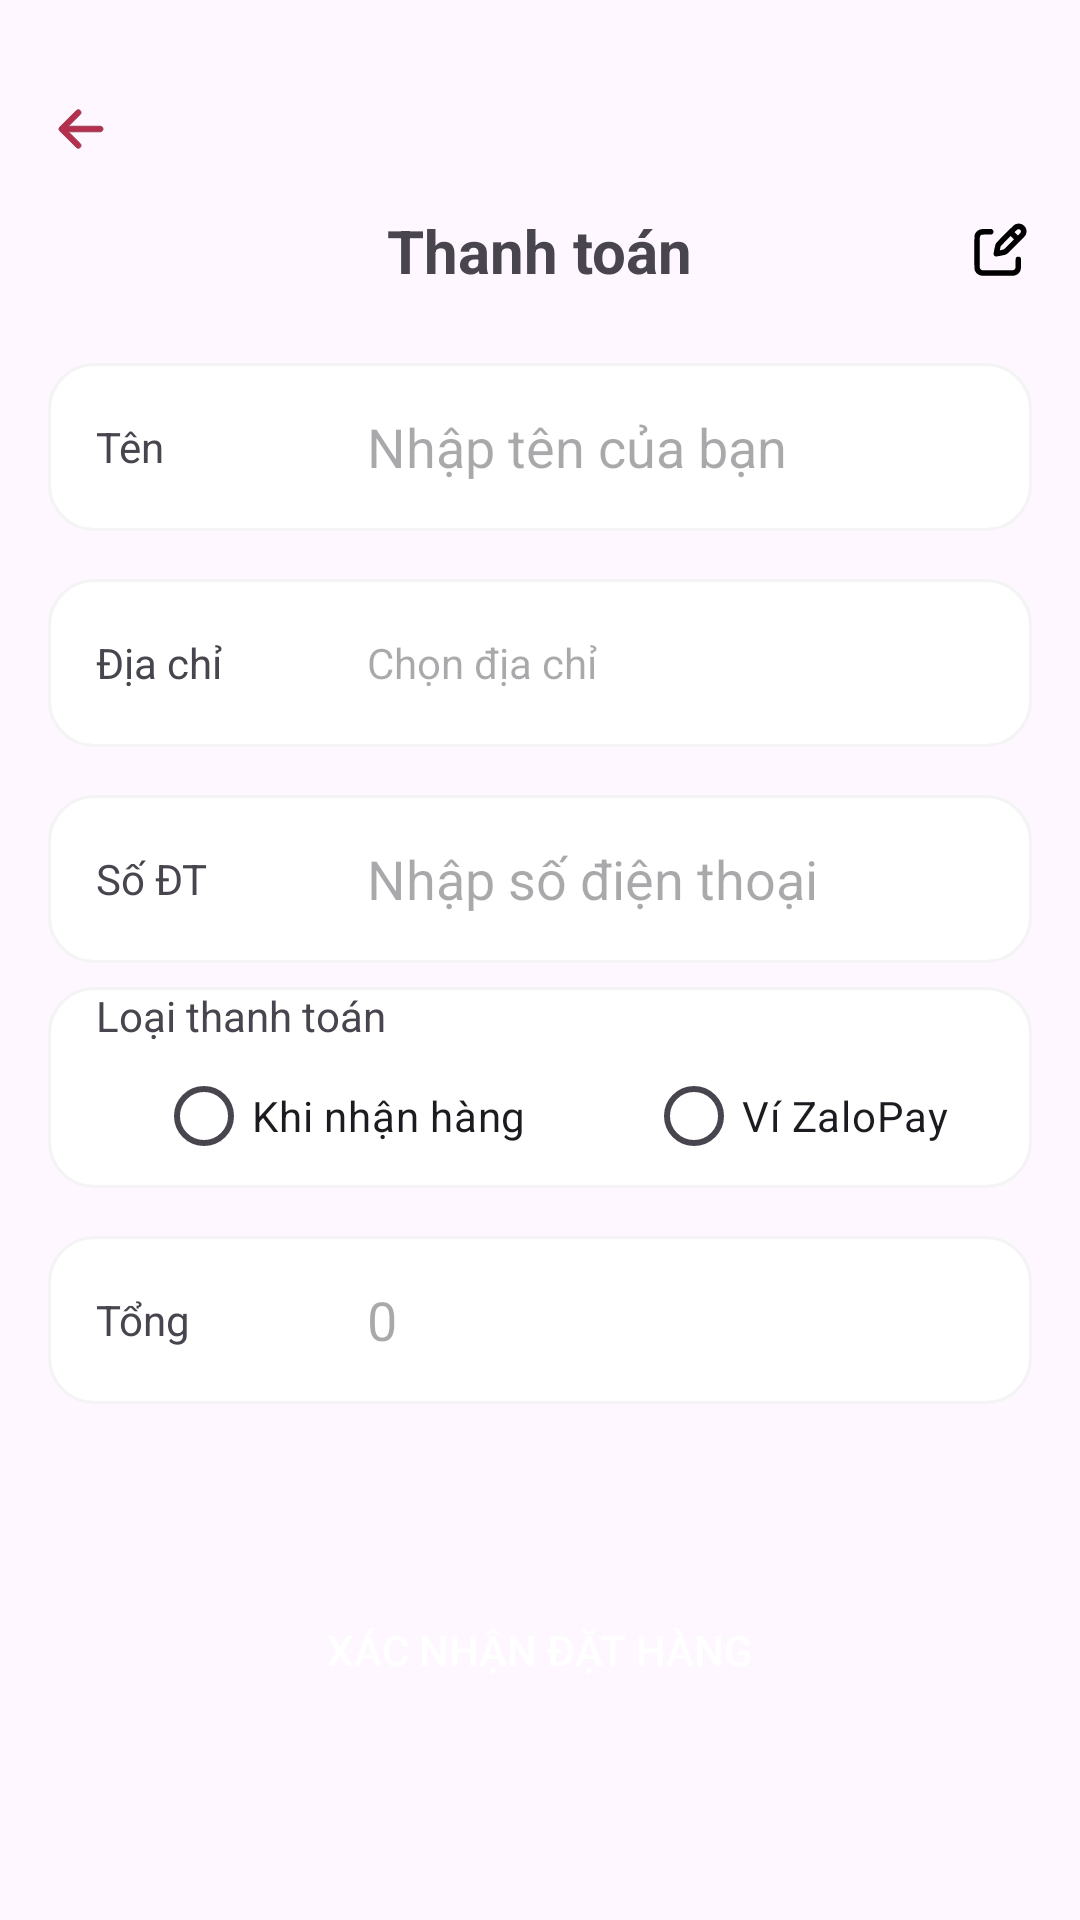

Point at icon controls on the screen. Image size 1080×1920, points as (x=x, y=y).
Back button: (x=81, y=129)
Edit button: (x=1000, y=249)
